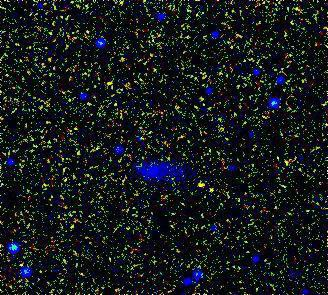star: (190, 173, 220, 203)
